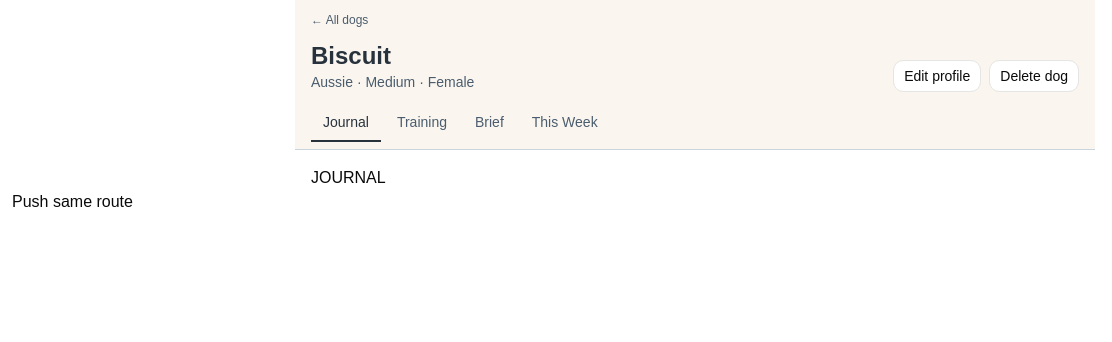
Test case: DogLayout › links to pending Brief recovery when a delivery claim was abandoned
The image size is (1112, 342).
Step 1. Click the button "Delete dog" → [1034, 76], box [989,60,1079,92]
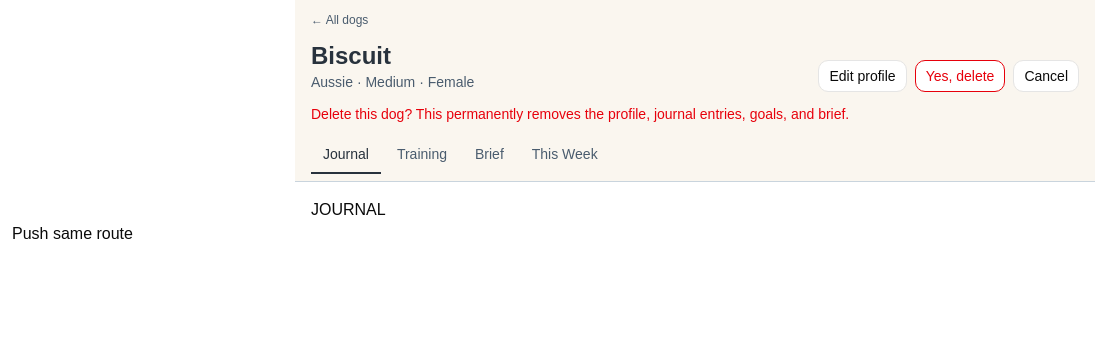
Step 2. Click the button "Yes, delete" → [960, 76], box [915,60,1005,92]
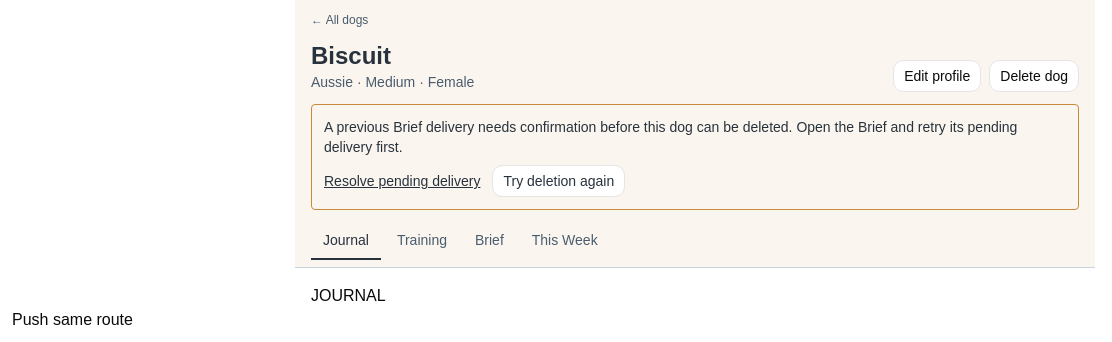
Check: the message is shown, box [311,104,1079,210]
Check: the message shows "needs confirmation", box [324,119,1017,155]
